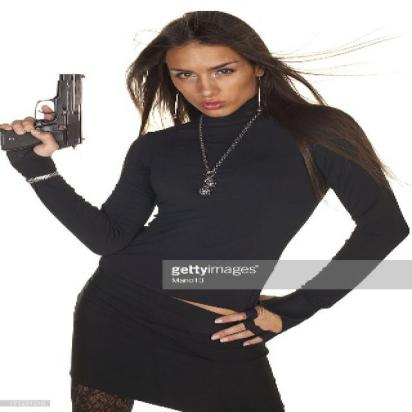Gun: (0, 70, 91, 150)
